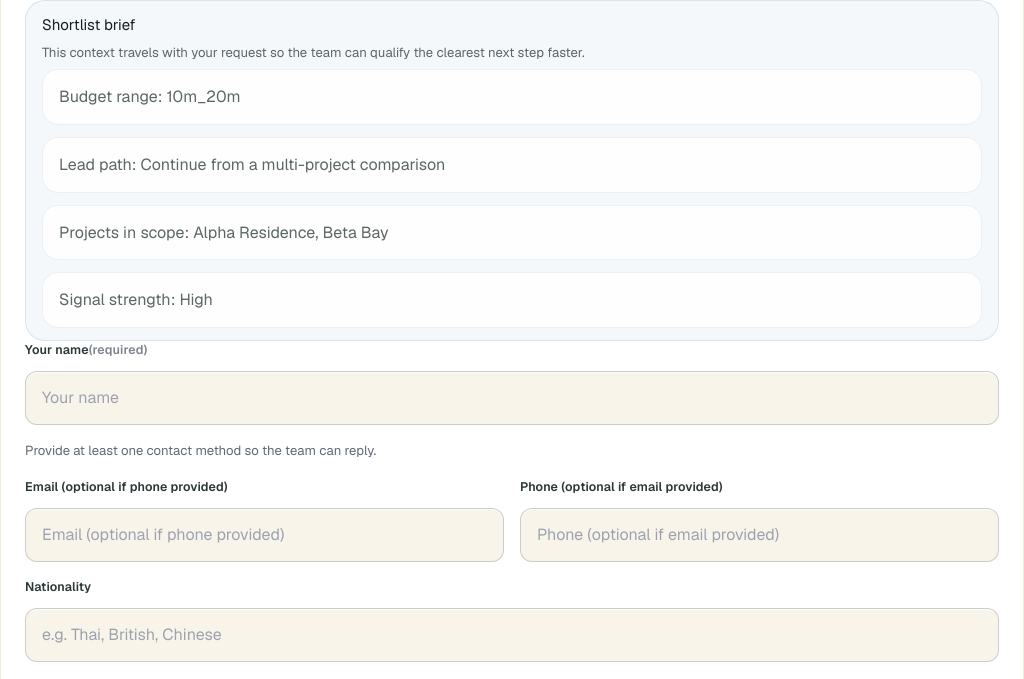
LeadForm handoff payload › submits normalized intent plus structured CRM context through existing fields
Type "Alex" into the field with placeholder "Your name". click: (512, 398)
box: [25,371,999,425]
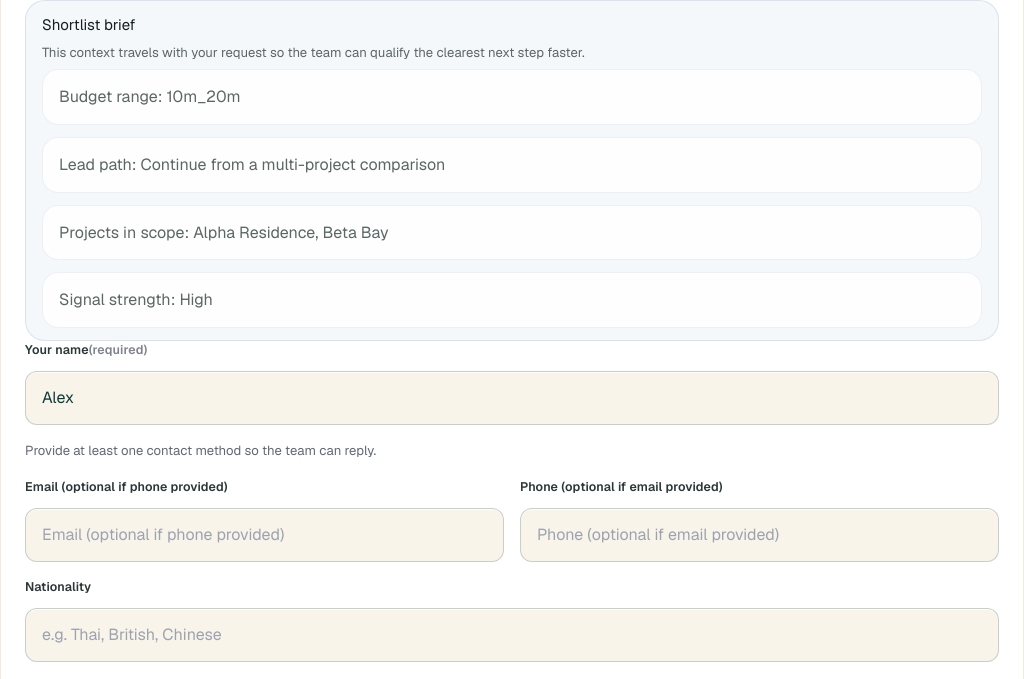
Type "alex@example.com" into the field with placeholder "Email (optional if phone provided)". click: (264, 535)
box: [25,508,504,562]
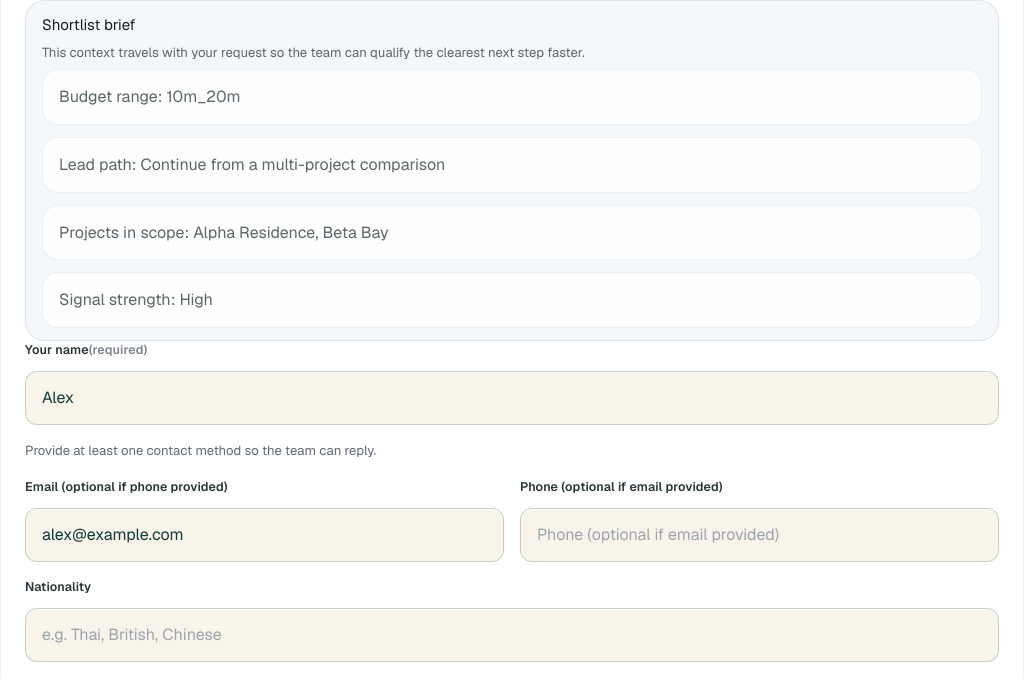
Type "+66891234567" into the field with placeholder "Phone (optional if email provided)". click: (760, 535)
box: [520,508,999,562]
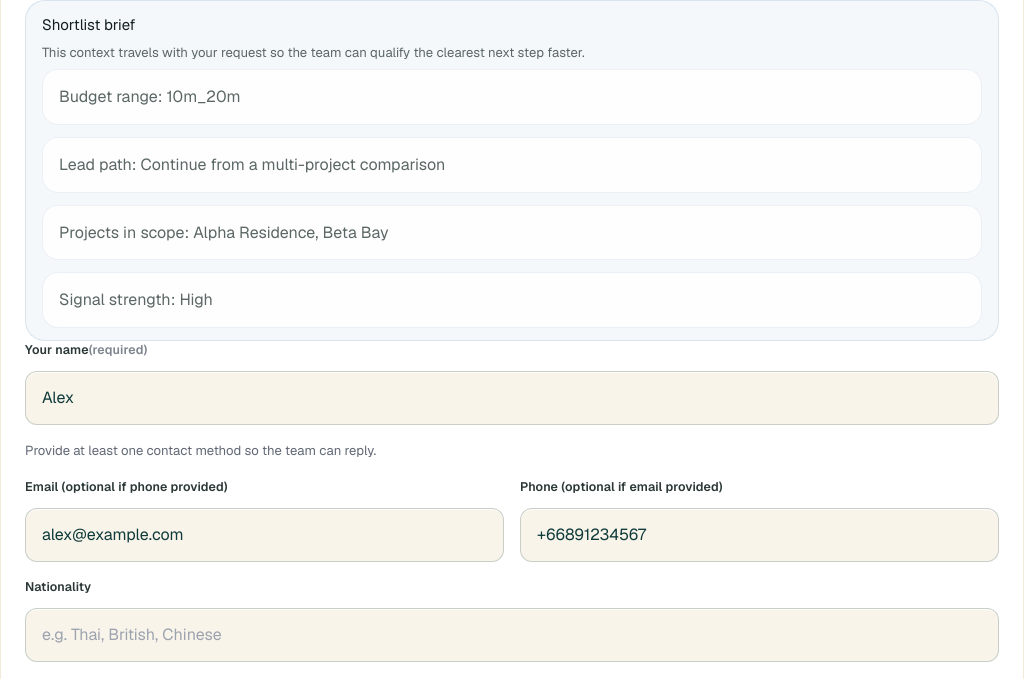
Type "Thai" into the field labelled "Nationality". click: (512, 635)
box: [25,608,999,662]
(page scrolled)
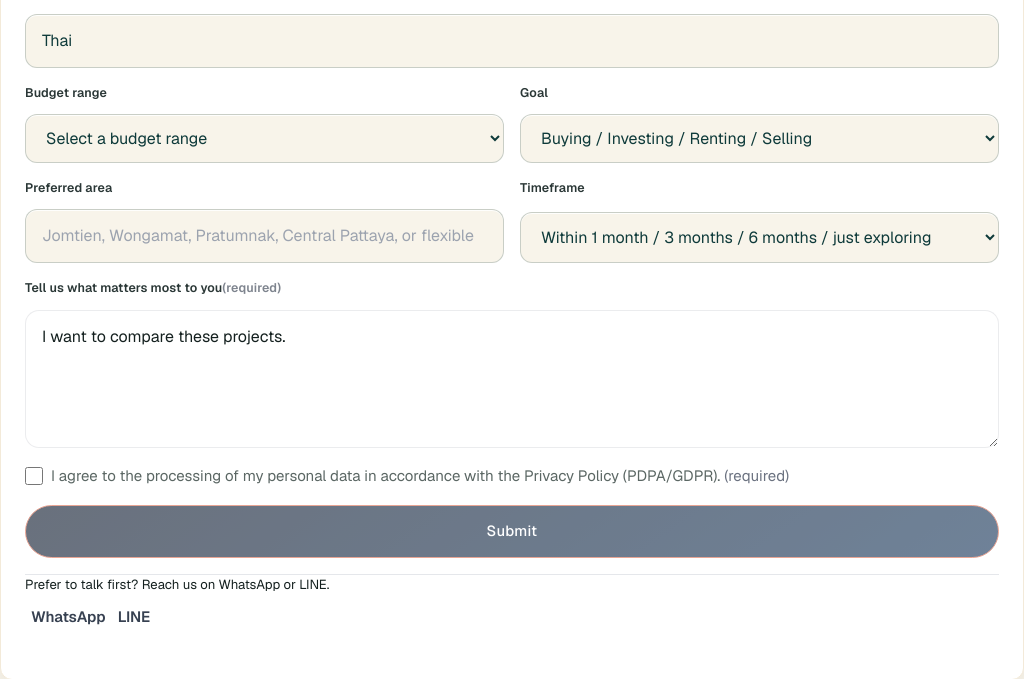
Click the checkbox. click: (34, 476)
box: [25,467,43,485]
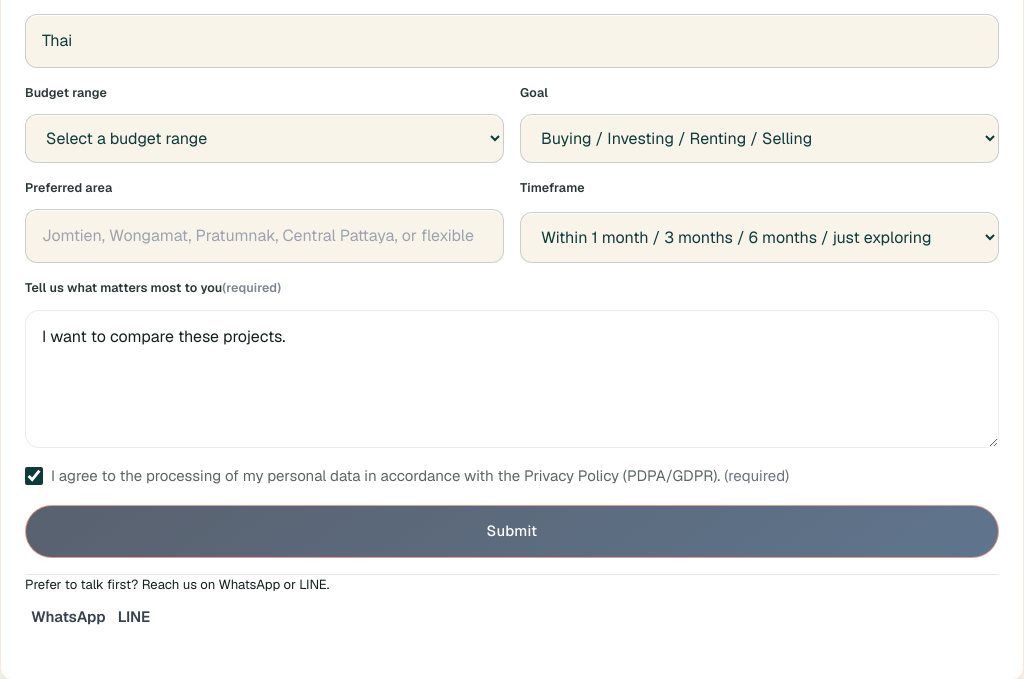
Click the button "Submit". click: (512, 531)
box: [25,504,999,558]
(page scrolled)
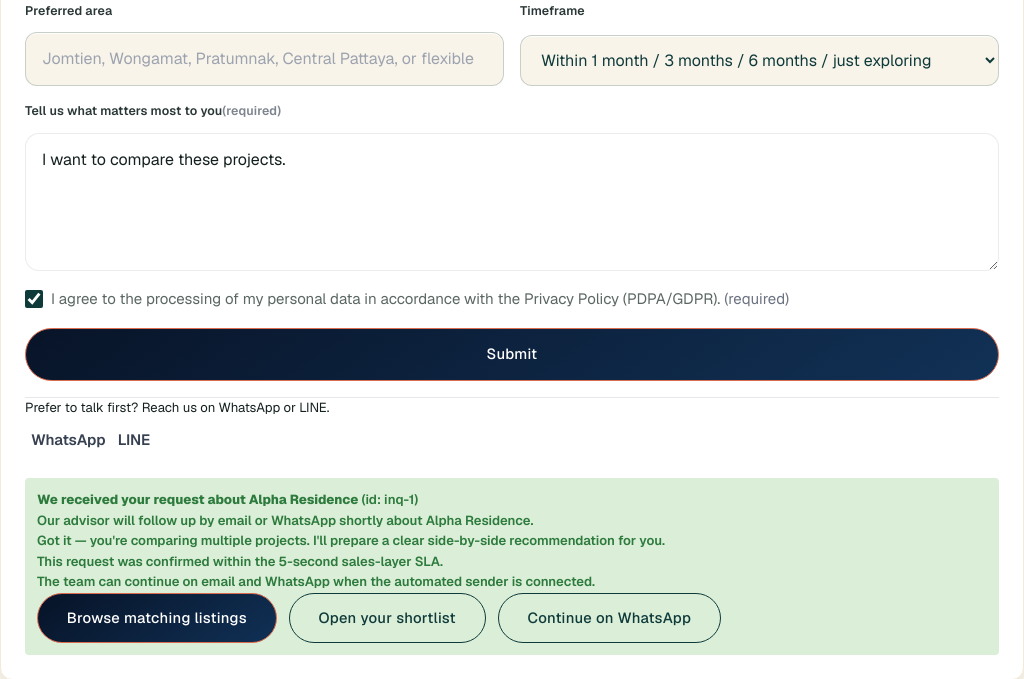
Result: the text "We received your request about Alpha Residence" is shown at [37,492,358,508]
Result: the text "email and WhatsApp" is shown at [37,573,595,590]
Result: the text "side-by-side recommendation" is shown at [37,532,665,549]
